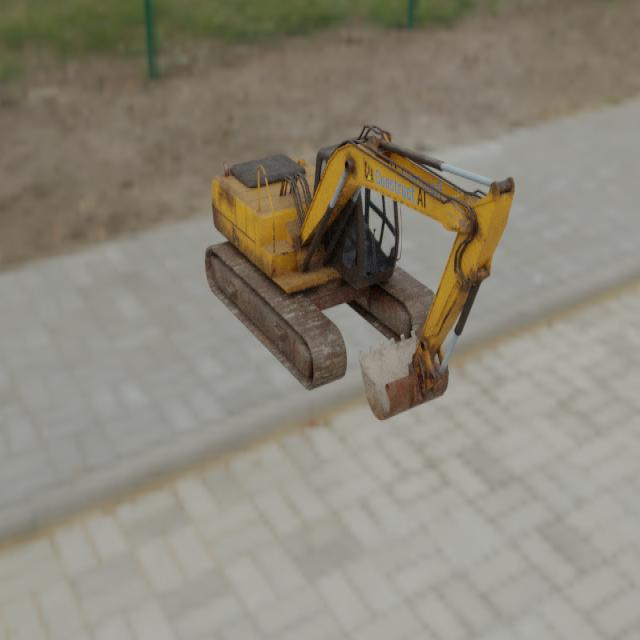excavator: (204, 124, 515, 421)
